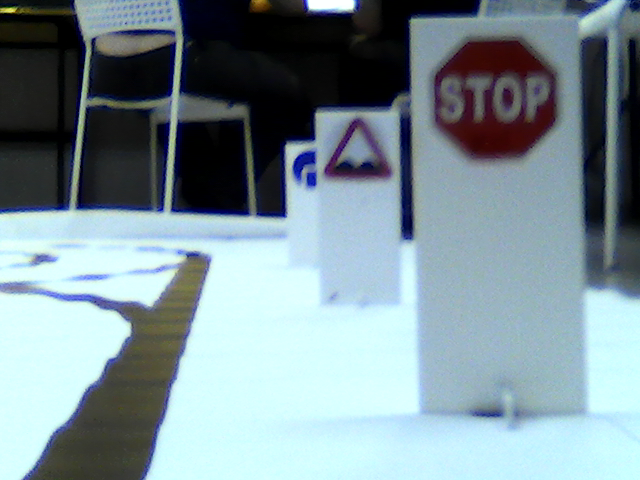Nerov: (325, 117, 394, 179)
Stop: (428, 36, 556, 159)
